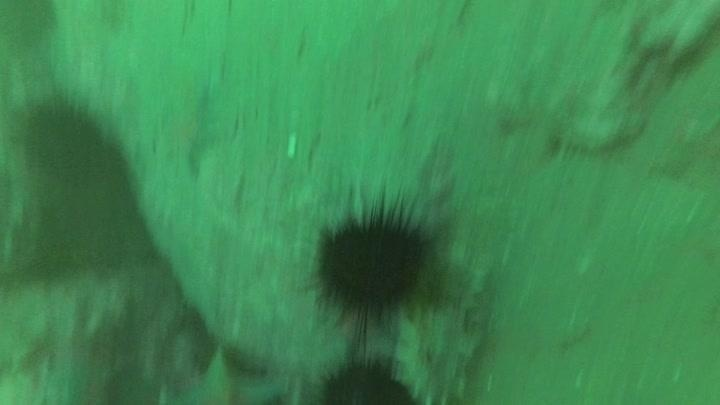echinus: (307, 195, 444, 331), (17, 91, 116, 187), (315, 350, 417, 404)
starfish: (147, 71, 242, 183), (164, 342, 287, 403)
